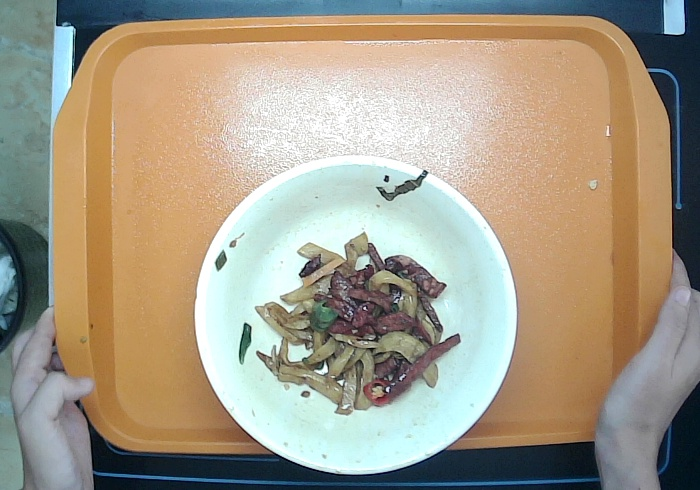ZNLD-Da_Tang_Wan: (184, 139, 520, 479)
